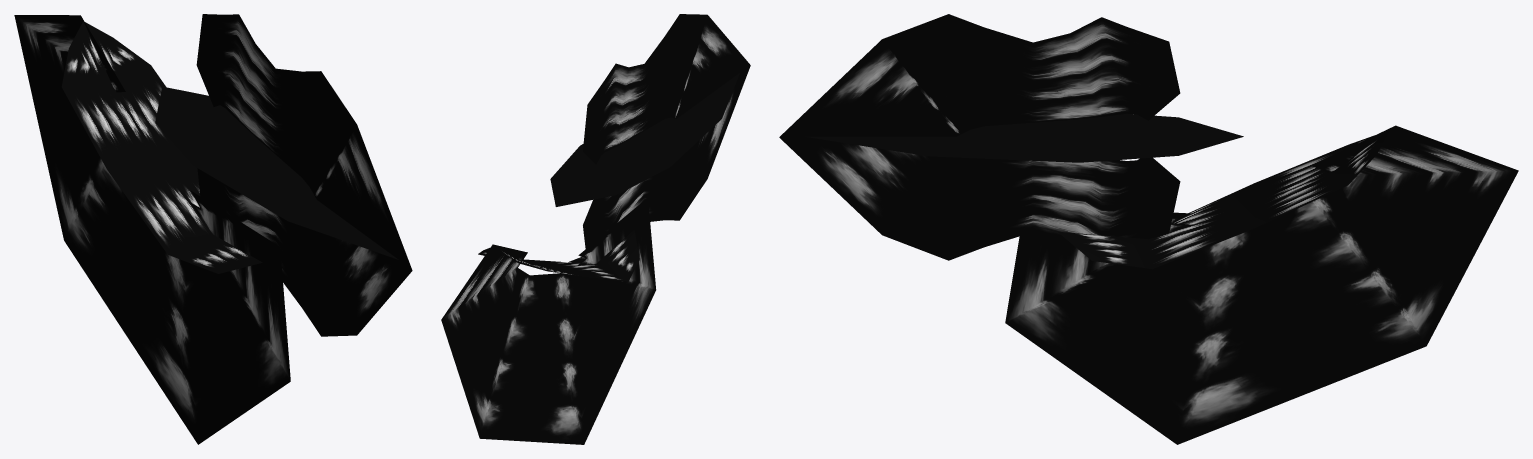
Rendered from xuelangshouzhang003.fbx.
3 renders of one model, left to right at view 1: azimuth 30°, elevation 25°; view 2: azimuth 150°, elevation 25°; view 3: azimuth 270°, elevation 25°, orthographic. The views are drawn at different scales.
Parts seen in each view (by area): view 1: xuelangshouzhang003; view 2: xuelangshouzhang003; view 3: xuelangshouzhang003.
Part boxes in pixels (x1=…): xuelangshouzhang003: x1=14, y1=14, x2=412, y2=444; xuelangshouzhang003: x1=441, y1=14, x2=750, y2=444; xuelangshouzhang003: x1=779, y1=14, x2=1518, y2=444.
Bounding box in the file's own units: 104 × 398 × 619.
